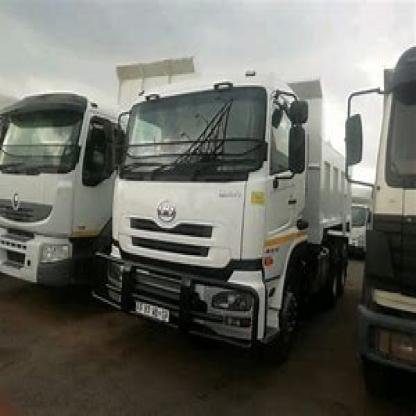dump_truck: (110, 55, 334, 346), (0, 78, 121, 336), (350, 22, 414, 405)
